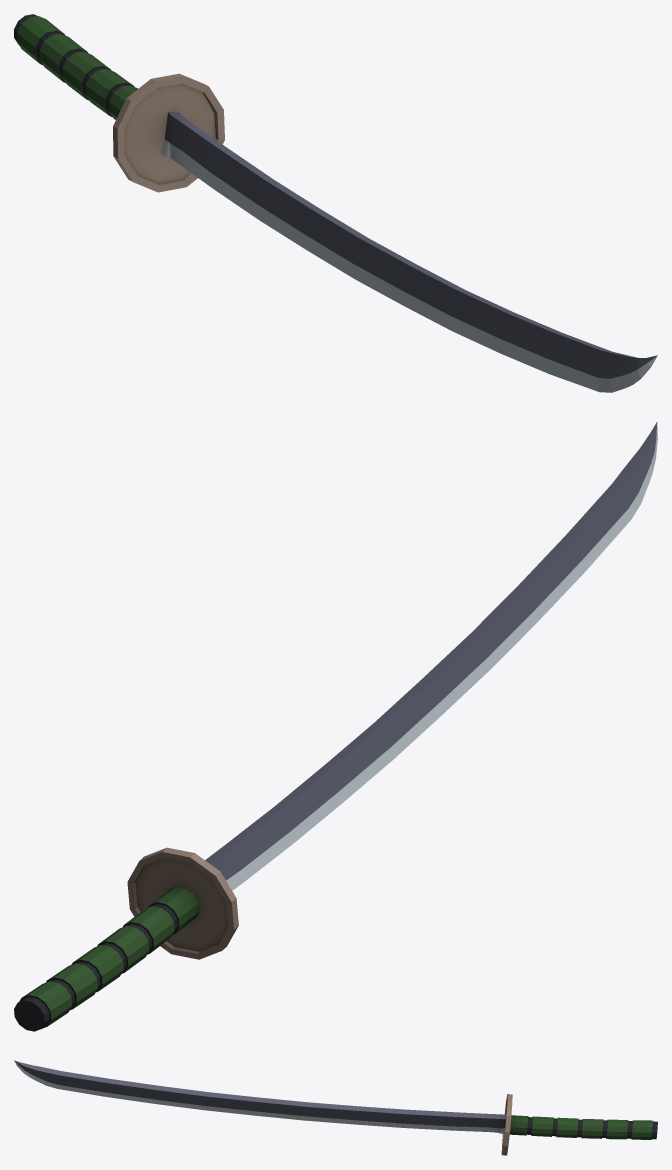
Rendered from Katana.glb.
3 renders of one model, top to bottom at view 1: azimuth 30°, elevation 25°; view 2: azimuth 150°, elevation 25°; view 3: azimuth 270°, elevation 25°, orthographic. The views are drawn at different scales.
Visible parts, largest first — view 1: Katana; view 2: Katana; view 3: Katana.
Boxes of the visible parts, x1=… form: Katana: x1=14, y1=14, x2=657, y2=392; Katana: x1=14, y1=422, x2=657, y2=1031; Katana: x1=14, y1=1060, x2=657, y2=1155.
Bounding box in the file's own units: 0.097 × 0.1601 × 0.9948.
1 material, 1 textured.
